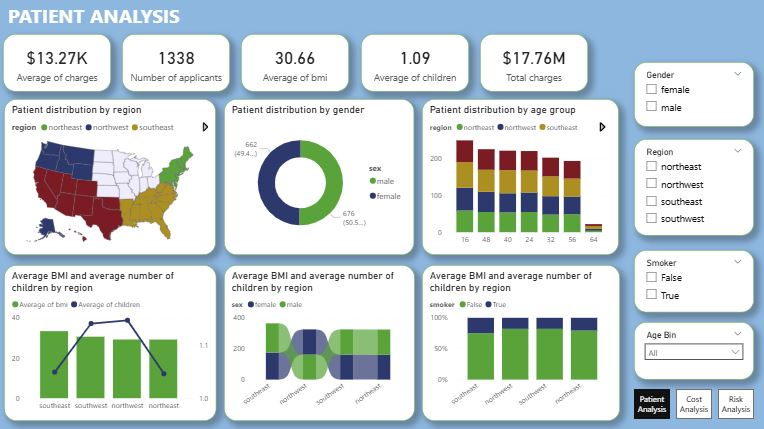

What the dashboard file says about the page in this screenshot:
{"tool":"powerbi","page":{"name":"Patient Analysis","canvas":[1280,720],"ordinal":0},"visuals":[{"type":"card","fields":{"Values":["Avg(Insurance.charges)"]},"box":[8,58.9,180,96],"z":0},{"type":"textbox","box":[11.4,0,517.1,61.4],"z":1000},{"type":"card","fields":{"Values":["Insurance.Records"]},"box":[206.7,58.9,180,96],"z":2000},{"type":"card","fields":{"Values":["Avg(Insurance.bmi)"]},"box":[405.8,58.9,180,96],"z":3000},{"type":"card","fields":{"Values":["Avg(Insurance.children)"]},"box":[604.9,58.9,180,96],"z":4000},{"type":"card","fields":{"Values":["Sum(Insurance.charges)"]},"box":[804,58.9,180,96],"z":5000},{"type":"shapeMap","title":"Patient distribution by region","fields":{"Category":["regions.Name"],"Series":["Insurance.region"],"Value":["Insurance.Records"]},"box":[10,166.7,353.3,260],"z":6000},{"type":"donutChart","title":"Patient distribution by gender","fields":{"Category":["Insurance.sex"],"Y":["Insurance.Records"]},"box":[376,166.7,316.7,260],"z":7000},{"type":"columnChart","title":"Patient distribution by age group","fields":{"Y":["Insurance.Records"],"Category":["Insurance.age (bins)"],"Series":["Insurance.region"]},"box":[706,166.7,328,260],"z":8000},{"type":"lineStackedColumnComboChart","title":"Average BMI and average number of children by region","fields":{"Category":["Insurance.region"],"Y":["Avg(Insurance.bmi)"],"Y2":["Avg(Insurance.children)"]},"box":[9.4,442.9,354,260],"z":9000},{"type":"ribbonChart","title":"Average BMI and average number of children by region","fields":{"Category":["Insurance.region"],"Y":["Insurance.Records"],"Series":["Insurance.sex"]},"box":[376,442.9,318,260],"z":10000},{"type":"hundredPercentStackedColumnChart","title":"Average BMI and average number of children by region","fields":{"Category":["Insurance.region"],"Series":["Insurance.smoker"],"Y":["Insurance.Records"]},"box":[706,442.9,330,260],"z":11000},{"type":"slicer","fields":{"Values":["Insurance.sex"]},"box":[1060,105.5,200,108],"z":12000},{"type":"slicer","fields":{"Values":["Insurance.region"]},"box":[1060,233,200,161],"z":13000},{"type":"slicer","fields":{"Values":["Insurance.smoker"]},"box":[1060,419,200,103.6],"z":14000},{"type":"slicer","fields":{"Values":["Insurance.age (bins)"]},"box":[1060,539,200,96],"z":15000},{"type":"pageNavigator","box":[1060,650.5,200,50],"z":16000}]}

Visuals, with their boxes in screenshot pixels (x1, y1, x2, y2), scaled from the page's 1280x720 canvas onto the 764x429 screenshot:
card - Avg(Insurance.charges): [left=5, top=35, right=112, bottom=92]
textbox: [left=7, top=0, right=315, bottom=37]
card - Insurance.Records: [left=123, top=35, right=231, bottom=92]
card - Avg(Insurance.bmi): [left=242, top=35, right=350, bottom=92]
card - Avg(Insurance.children): [left=361, top=35, right=468, bottom=92]
card - Sum(Insurance.charges): [left=480, top=35, right=587, bottom=92]
"Patient distribution by region" shapeMap: [left=6, top=99, right=217, bottom=254]
"Patient distribution by gender" donutChart: [left=224, top=99, right=413, bottom=254]
"Patient distribution by age group" columnChart: [left=421, top=99, right=617, bottom=254]
"Average BMI and average number of children by region" lineStackedColumnComboChart: [left=6, top=264, right=217, bottom=419]
"Average BMI and average number of children by region" ribbonChart: [left=224, top=264, right=414, bottom=419]
"Average BMI and average number of children by region" hundredPercentStackedColumnChart: [left=421, top=264, right=618, bottom=419]
slicer - Insurance.sex: [left=633, top=63, right=752, bottom=127]
slicer - Insurance.region: [left=633, top=139, right=752, bottom=235]
slicer - Insurance.smoker: [left=633, top=250, right=752, bottom=311]
slicer - Insurance.age (bins): [left=633, top=321, right=752, bottom=378]
pageNavigator: [left=633, top=388, right=752, bottom=417]
